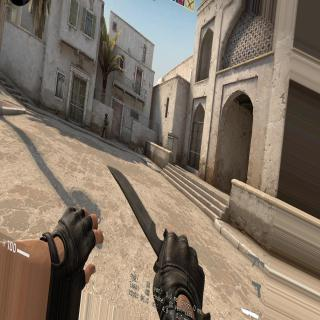CT-Body: (101, 111, 109, 137)
CT-Head: (105, 112, 107, 117)
